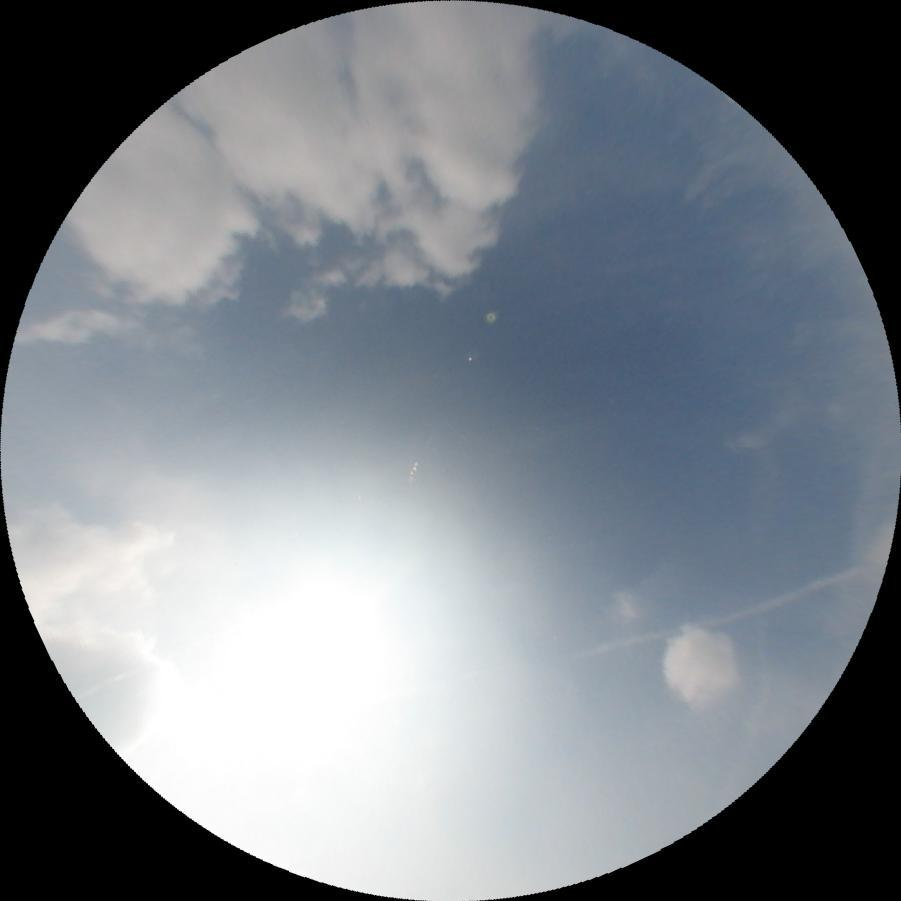contrail old: (567, 568, 857, 671)
sun: (141, 561, 451, 842)
